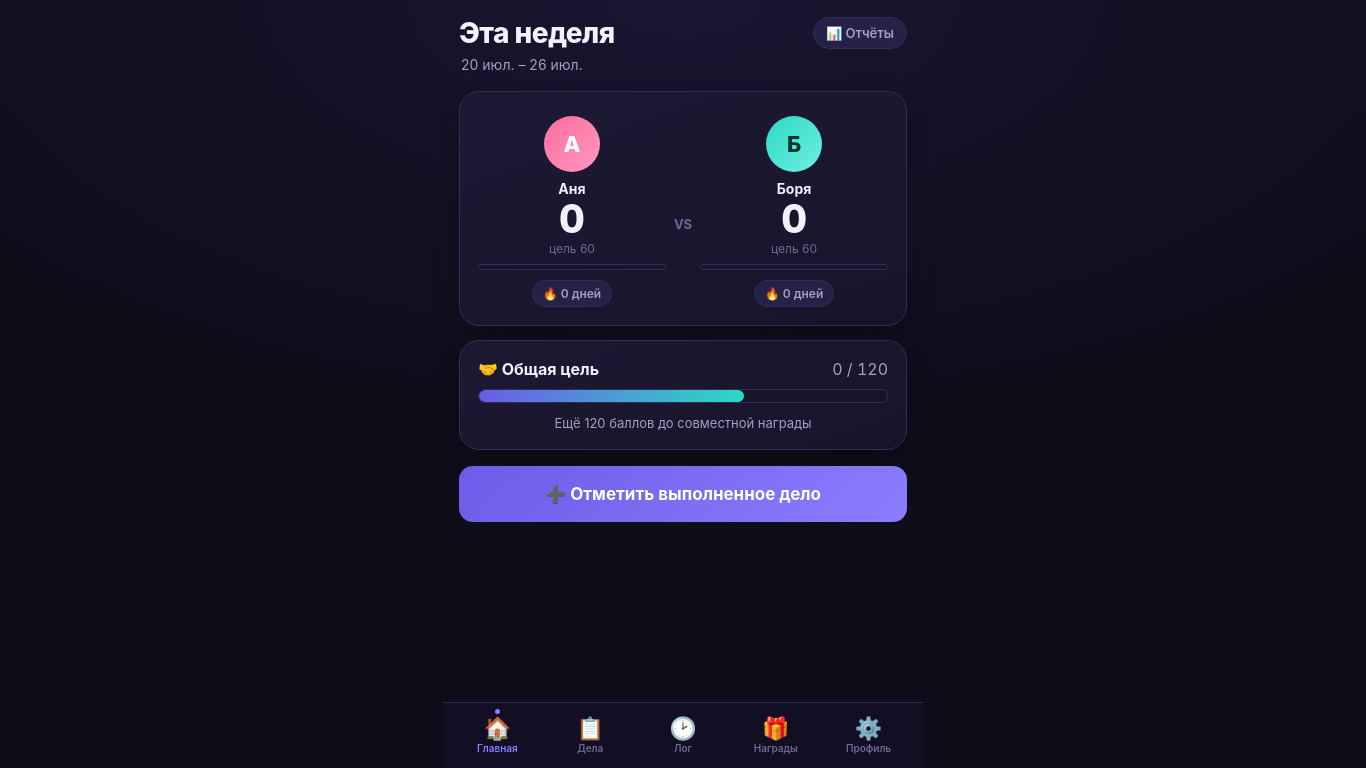
Test: Rewards redemption guard › disables unaffordable rewards
This screenshot has width=1366, height=768.
Click the text "Награды": (776, 748) [754,742,798,754]
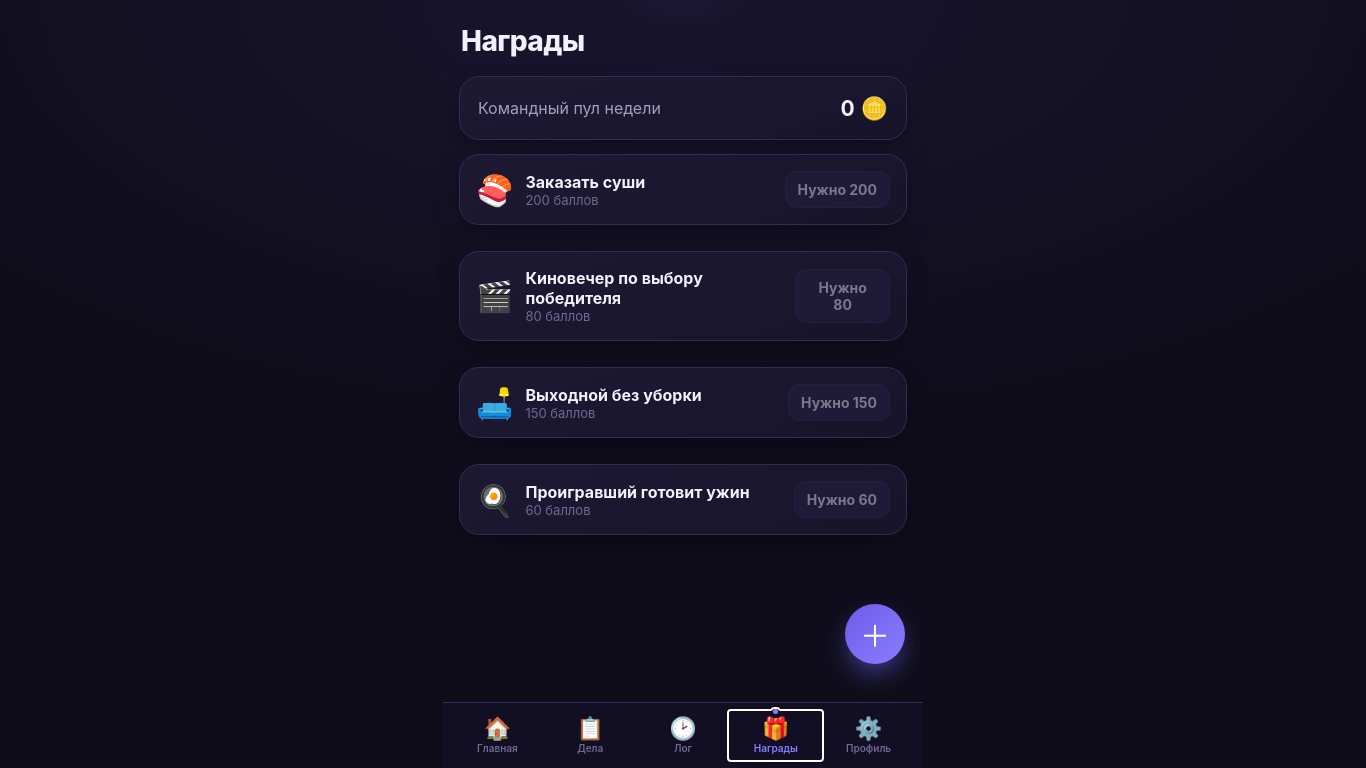
Now the button "Нужно 200" is shown, box [785,171,890,208]
